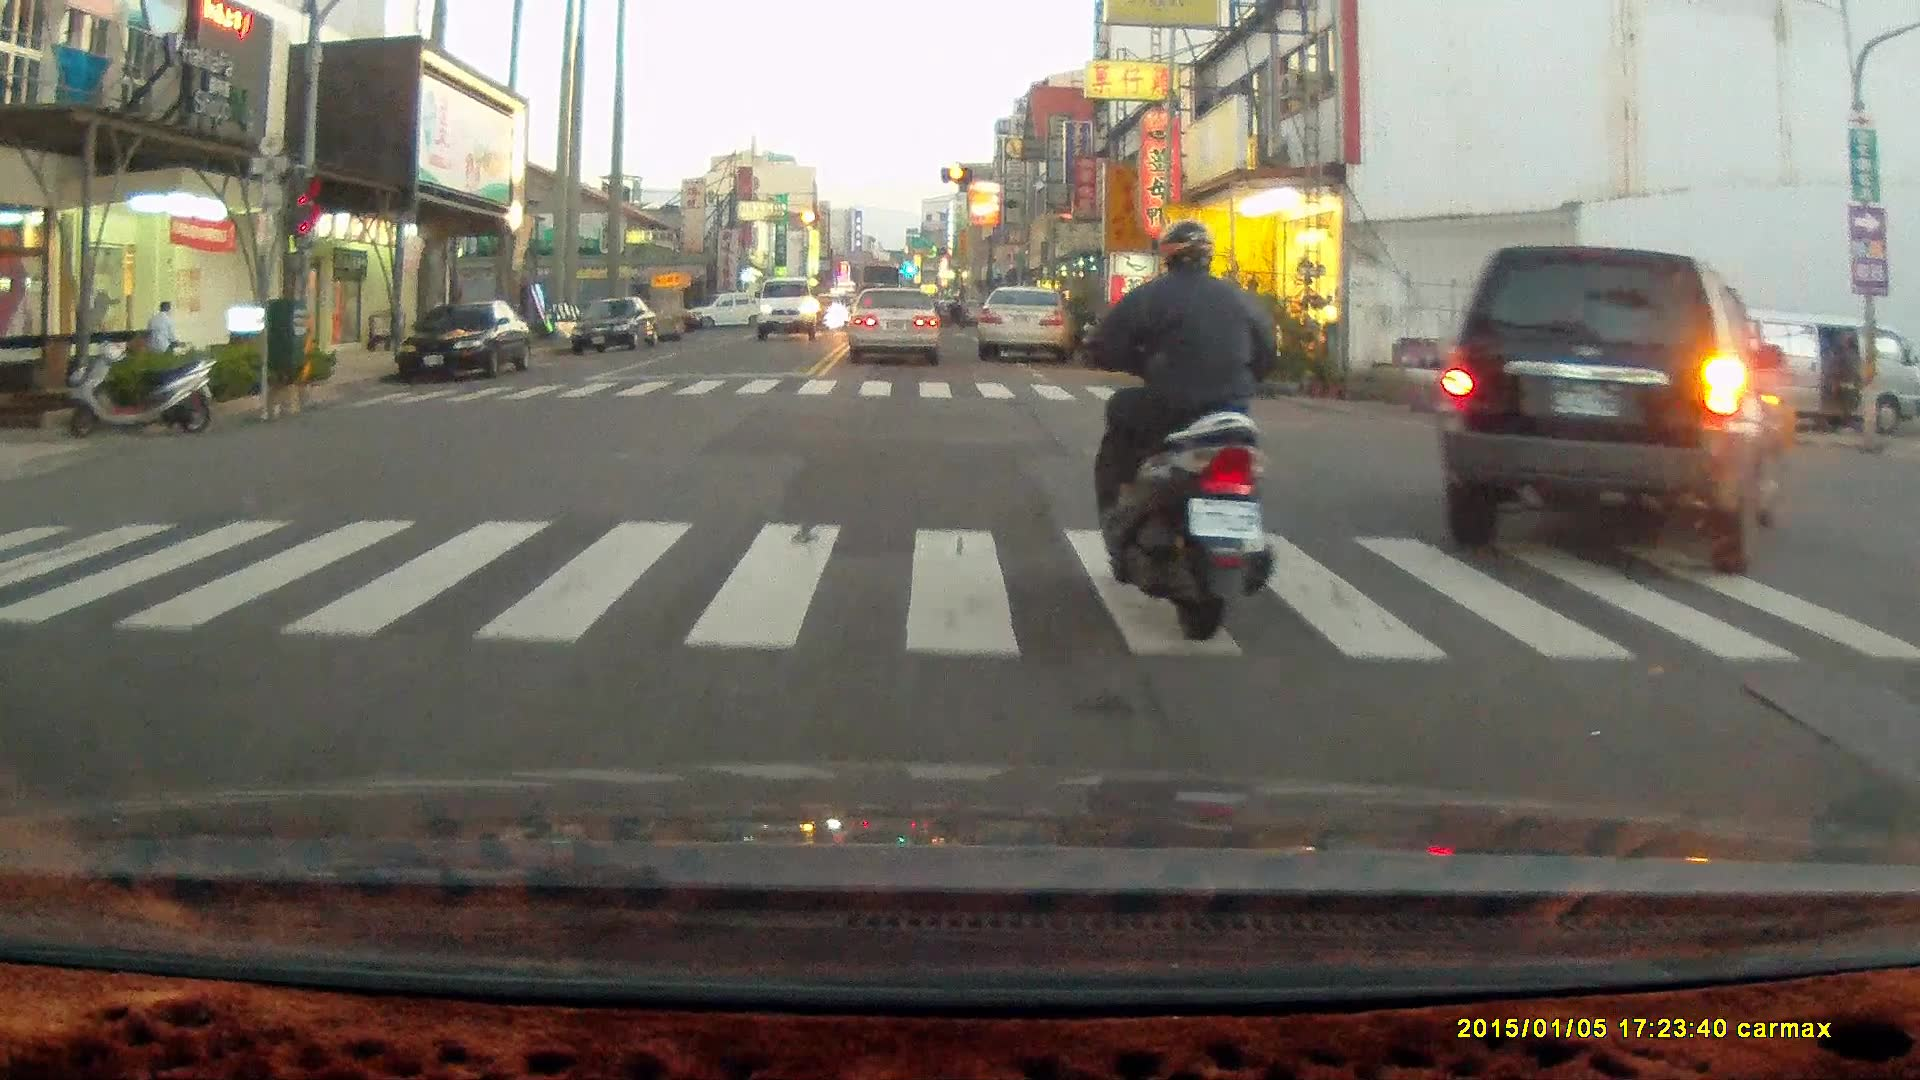pedestrian: (145, 297, 182, 365), (1837, 336, 1862, 427)
rider: (1082, 217, 1277, 641)
vehicle: (1444, 248, 1788, 574), (1697, 306, 1919, 434), (400, 307, 532, 398), (975, 286, 1079, 365), (848, 288, 943, 366), (570, 296, 660, 357), (758, 280, 822, 347)
